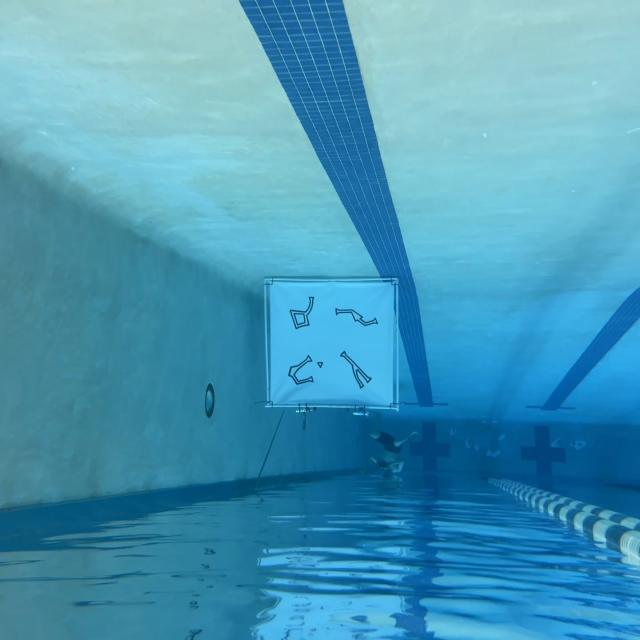abydos: (340, 350, 372, 390), (336, 308, 378, 326)
buoy: (264, 277, 397, 407)
earth: (288, 354, 323, 385), (290, 296, 314, 330)
